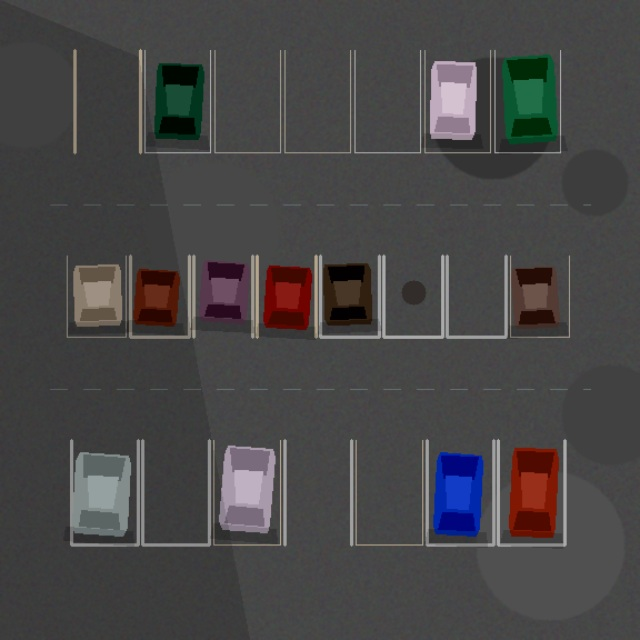space-empty: (142, 440, 209, 544), (284, 440, 351, 544), (356, 440, 422, 544), (74, 50, 140, 152), (214, 50, 280, 152), (284, 50, 350, 152), (354, 50, 420, 152), (383, 256, 442, 337), (447, 256, 506, 337)
space-occupied: (71, 440, 138, 544), (213, 440, 280, 544), (427, 440, 493, 544), (498, 440, 564, 544), (144, 50, 210, 152), (424, 50, 490, 152), (494, 50, 560, 152), (67, 256, 126, 337), (130, 256, 189, 337), (193, 256, 252, 337), (257, 256, 316, 337), (320, 256, 379, 337), (510, 256, 569, 337)
